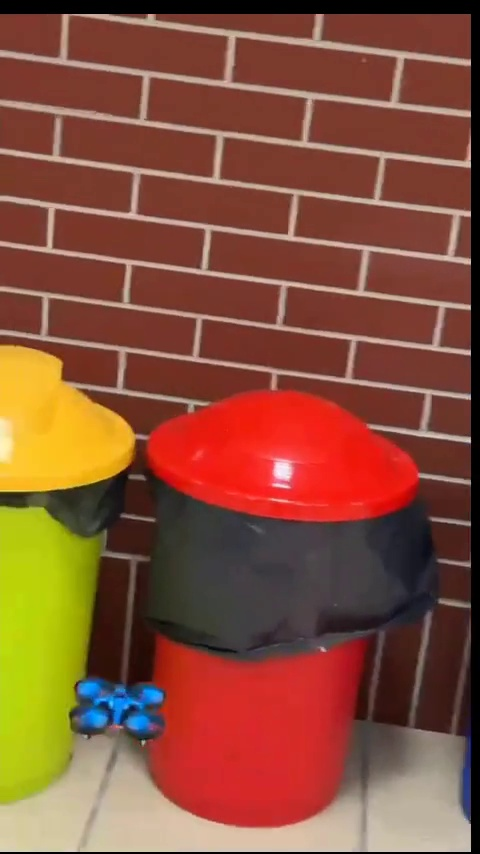drone: (68, 677, 163, 742)
